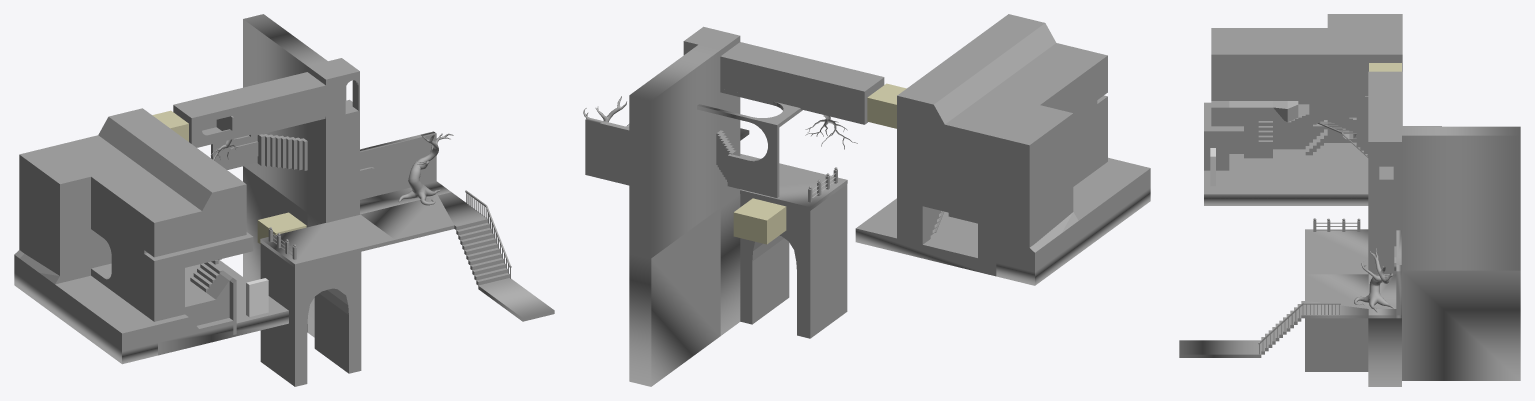
Rendered from level2.fbx.
The picture shows the model from 3 angles, left to right: view 1: azimuth 30°, elevation 25°; view 2: azimuth 150°, elevation 25°; view 3: azimuth 270°, elevation 25°; orthographic projection. The views are drawn at different scales.
Visible parts, largest first — view 1: Cube.045, Cube.034, Cube.032, pCube6, Cube.035, Cube.031, Cube.037, polySurface738, Plane.002, pCube7, pCube10, Rambarde5 (+2 smaller); view 2: Cube.045, Cube.034, pCube6, Cube.035, Cube.032, Plane.002, pCube7, pCube8, Cube.036; view 3: Cube.034, Cube.045, Cube.032, pCube6, Cube.035, Cube.031, polySurface738, Rambarde5, Cube.044, Cube.040, Cube.039, Cube.041 (+3 smaller).
Boxes of the visible parts, box(x1,y1,x2,y2) form: Cube.045: box(14, 108, 288, 364); Cube.034: box(243, 14, 359, 337); Cube.032: box(260, 131, 493, 267); pCube6: box(260, 243, 361, 386); Cube.035: box(173, 72, 326, 147); Cube.031: box(462, 237, 554, 321); Cube.037: box(259, 134, 307, 170); polySurface738: box(398, 133, 453, 205); Plane.002: box(211, 116, 325, 169); pCube7: box(257, 212, 306, 244); pCube10: box(246, 278, 268, 316); Rambarde5: box(465, 190, 511, 278); Cube.045: box(855, 14, 1150, 285); Cube.034: box(629, 26, 740, 386); pCube6: box(740, 184, 847, 338); Cube.035: box(720, 42, 884, 124); Cube.032: box(585, 117, 847, 210); Plane.002: box(697, 88, 802, 197); pCube7: box(733, 198, 786, 244); pCube8: box(867, 83, 906, 128); Cube.036: box(716, 132, 734, 181); Cube.034: box(1368, 126, 1520, 386); Cube.045: box(1204, 14, 1402, 205); Cube.032: box(1290, 229, 1401, 328); pCube6: box(1305, 318, 1368, 371); Cube.035: box(1365, 71, 1402, 126); Cube.031: box(1179, 314, 1290, 357); polySurface738: box(1354, 248, 1395, 312); Rambarde5: box(1258, 303, 1340, 354); Cube.044: box(1287, 113, 1331, 135); Cube.040: box(1244, 120, 1258, 146); Cube.039: box(1258, 120, 1272, 145); Cube.041: box(1229, 129, 1243, 151).
Bounding box in the file's own units: 214 × 127 × 160.
